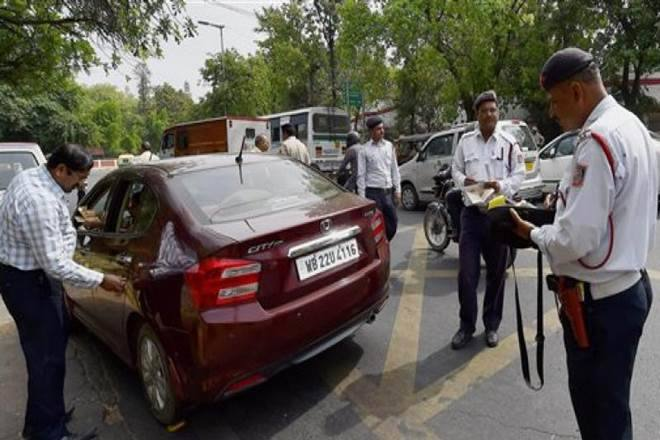license plate: (294, 233, 361, 286)
